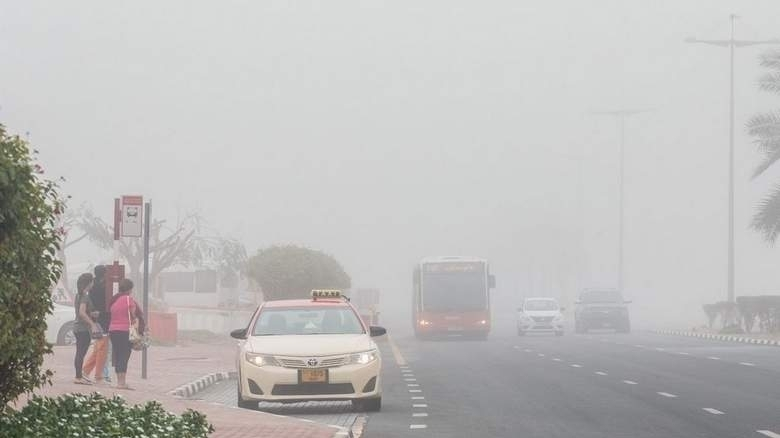bus: (84, 254, 243, 315), (415, 255, 492, 341)
car: (233, 295, 383, 413), (572, 285, 633, 335), (516, 297, 563, 335)
person: (106, 276, 145, 389), (83, 259, 107, 382), (73, 269, 99, 379)
